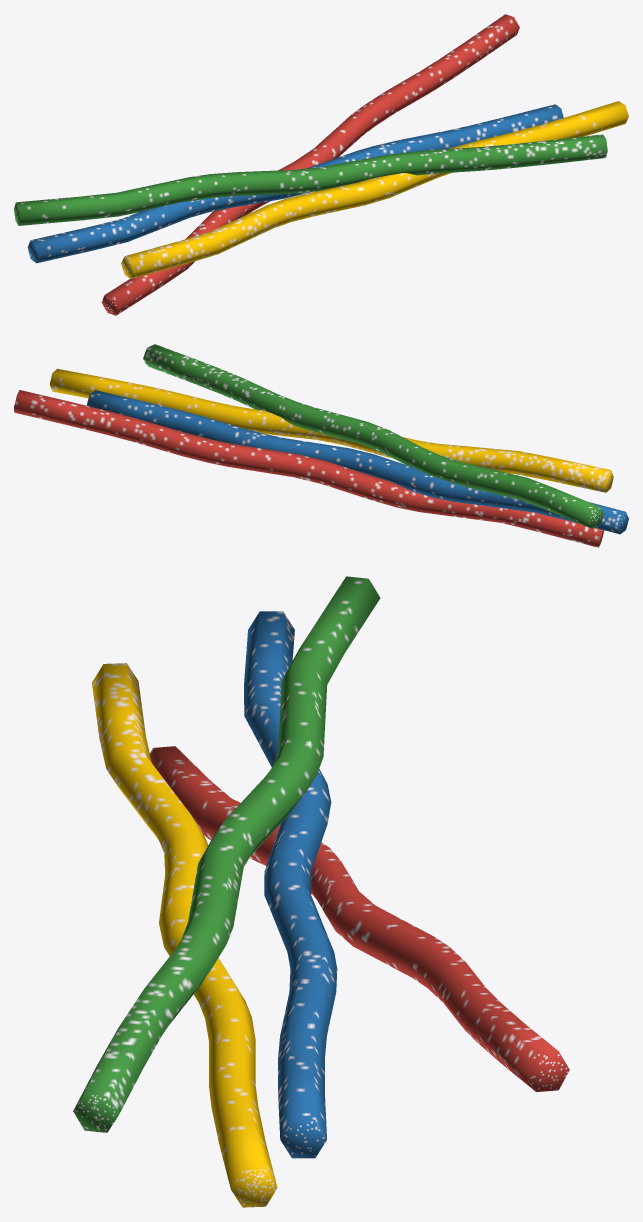
Rendered from VFX_SourStraws.fbx.
The picture shows the model from 3 angles, top to bottom: view 1: azimuth 30°, elevation 25°; view 2: azimuth 150°, elevation 25°; view 3: azimuth 270°, elevation 25°; orthographic projection. The views are drawn at different scales.
Visible parts, largest first — view 1: Sour Straws; view 2: Sour Straws; view 3: Sour Straws.
Part boxes in pixels (x1,y1,x2,y2): Sour Straws: [14, 14, 628, 315]; Sour Straws: [14, 344, 628, 547]; Sour Straws: [73, 576, 569, 1207].
Size of the model in its own units: 0.2369 by 0.0413 by 0.0888.
